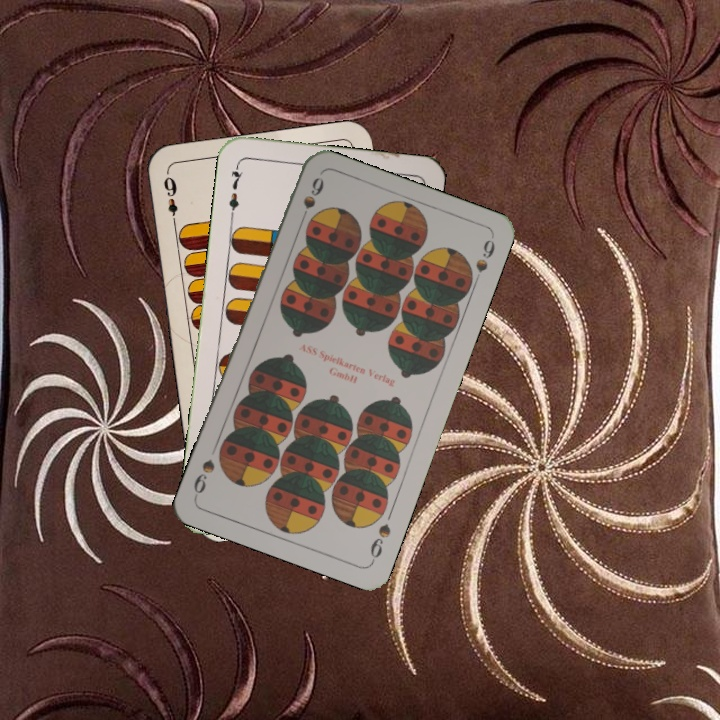E7: (224, 160, 246, 219)
E9: (159, 170, 181, 229)
S9: (295, 173, 327, 230), (366, 519, 394, 565)
